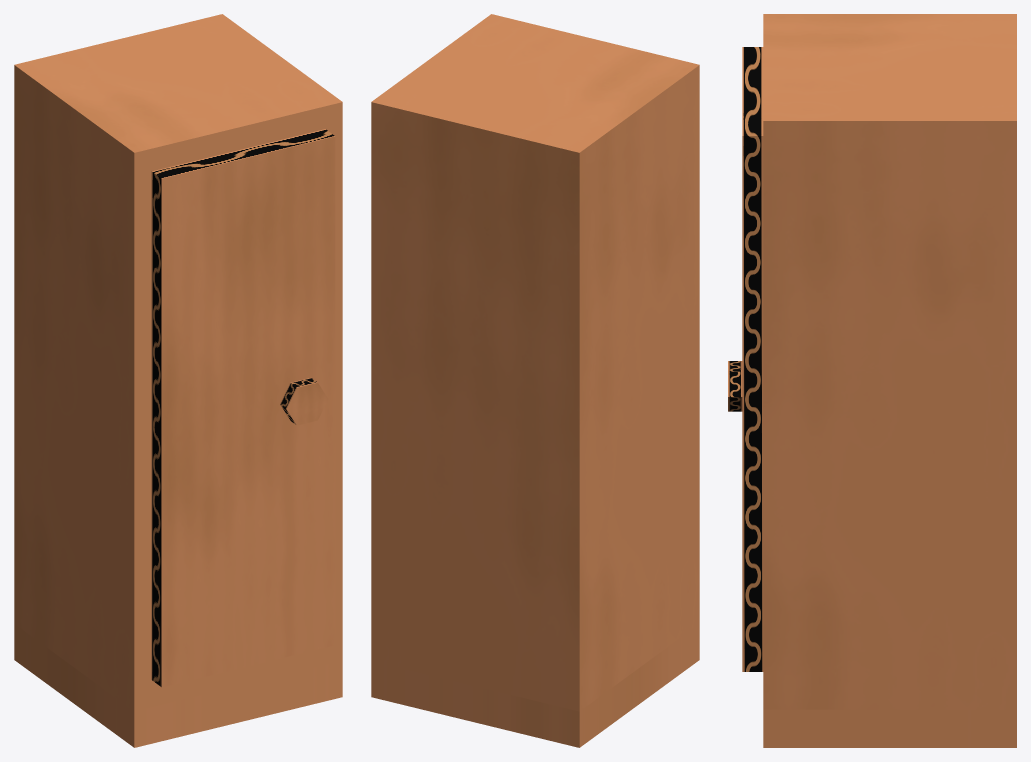
The model's file is M_CardboardKitchen_Fridge.fbx.
3 views of the same model, side by side, from view 1: azimuth 30°, elevation 25°; view 2: azimuth 150°, elevation 25°; view 3: azimuth 270°, elevation 25° (orthographic). The views are drawn at different scales.
Visible parts, largest first — view 1: M_CardboardKitchen_Fridge, Door; view 2: M_CardboardKitchen_Fridge; view 3: M_CardboardKitchen_Fridge, Door.
Part boxes in pixels (box(x1,y1,x2,y2)): M_CardboardKitchen_Fridge: box(14, 14, 342, 747); Door: box(151, 129, 335, 687); M_CardboardKitchen_Fridge: box(371, 14, 699, 747); M_CardboardKitchen_Fridge: box(763, 14, 1016, 747); Door: box(728, 47, 763, 671).
Size of the model in its own units: 3 by 8.19 by 3.42.
Materials: 1 (1 with a texture image).
